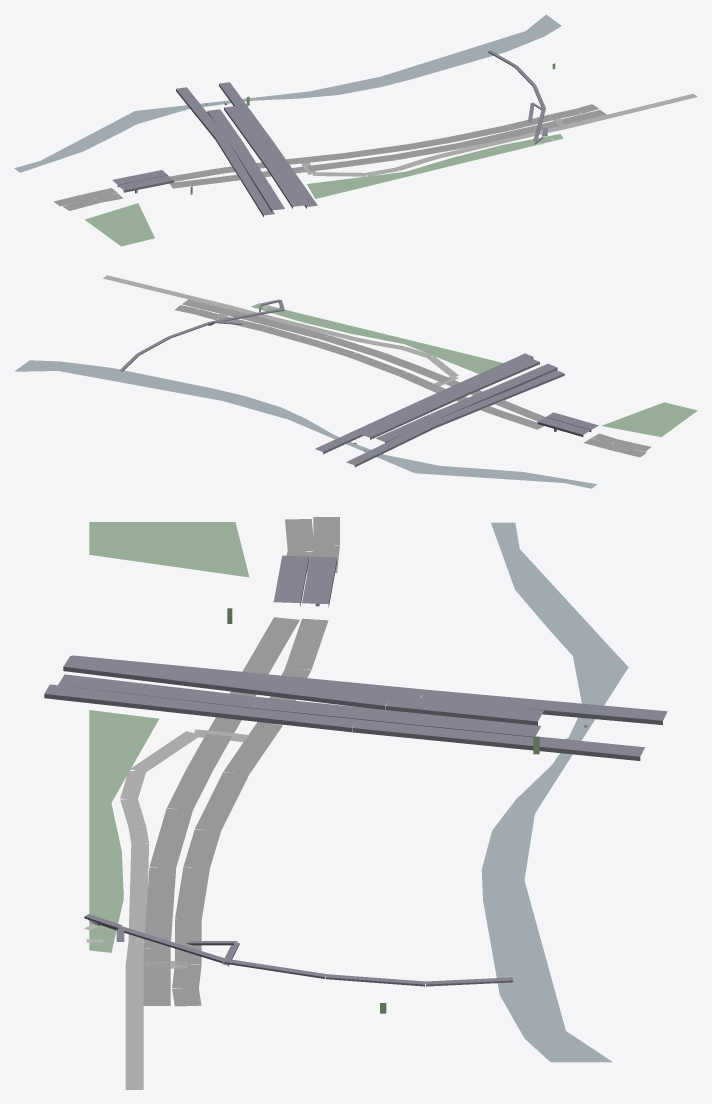
The picture shows the model from 3 angles, top to bottom: view 1: azimuth 30°, elevation 25°; view 2: azimuth 150°, elevation 25°; view 3: azimuth 270°, elevation 25°; orthographic projection. The views are drawn at different scales.
Size of the model in its own units: 530 by 9.15 by 244.
